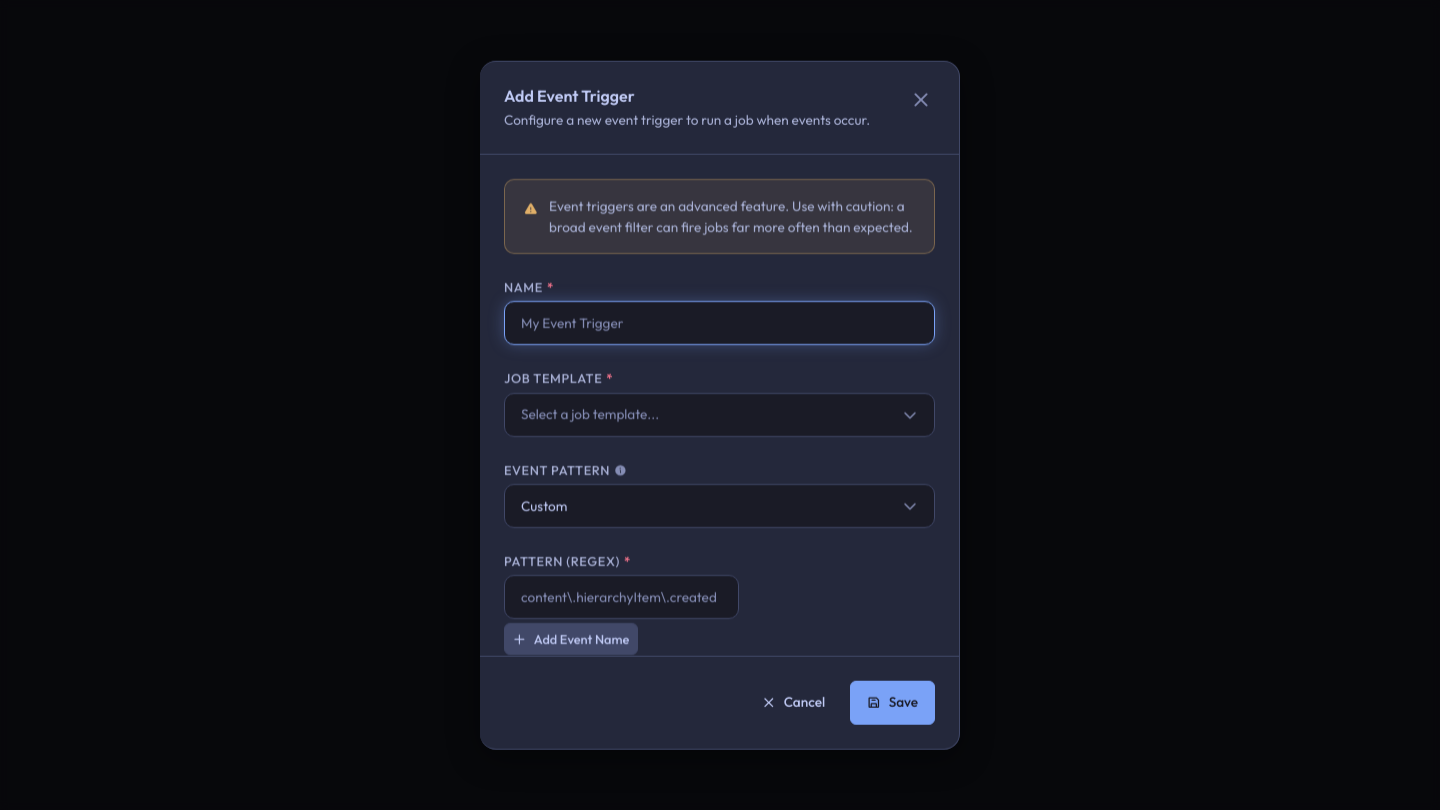
Test: EventTriggerForm - Name input › shows validation error when name is empty on submit
Click the dropdown labelled "Select a job template...". click: [590, 414]
box: top-left (504, 392), bottom-right (935, 436)
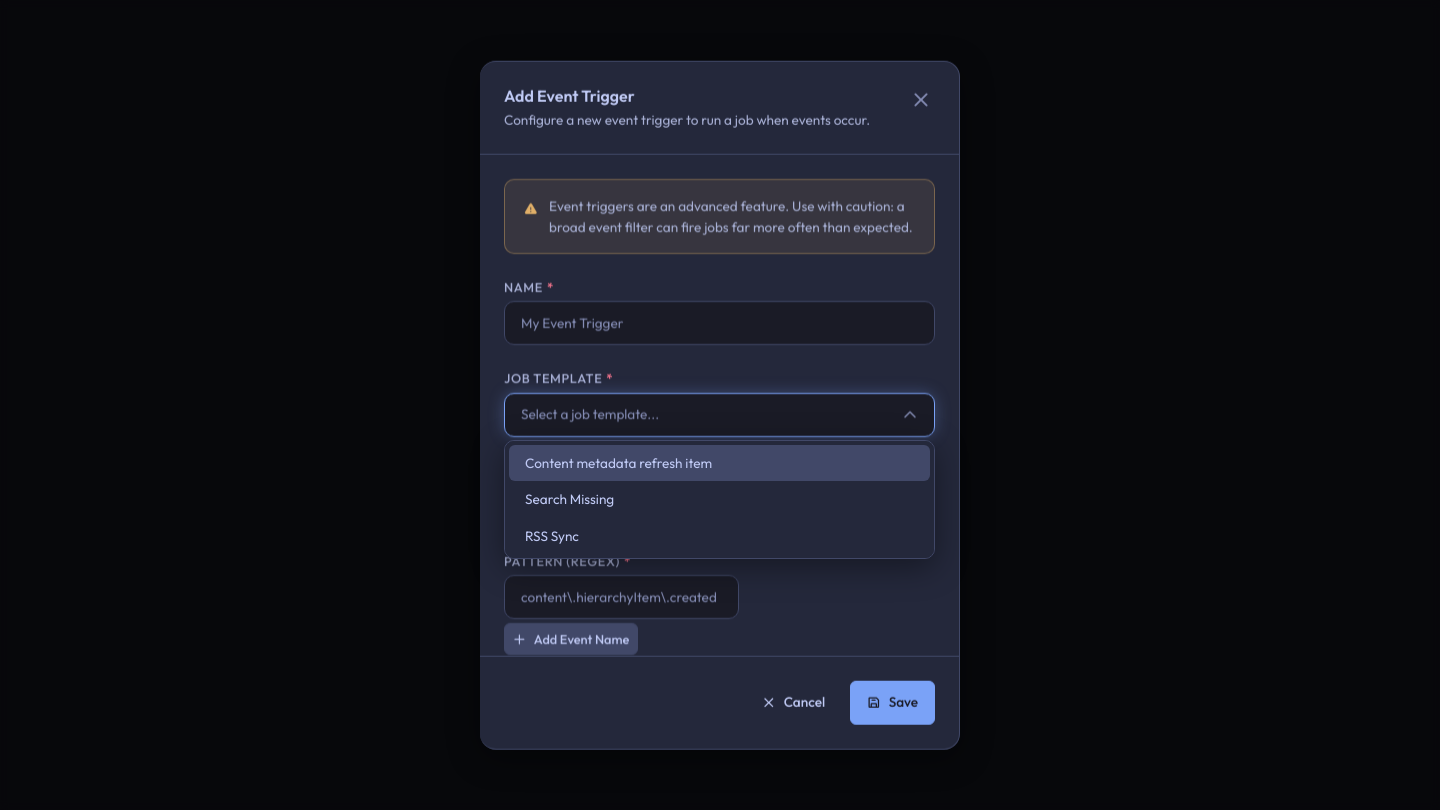
Click the option "Content metadata refresh item". click: [619, 463]
box: top-left (509, 445), bottom-right (930, 481)
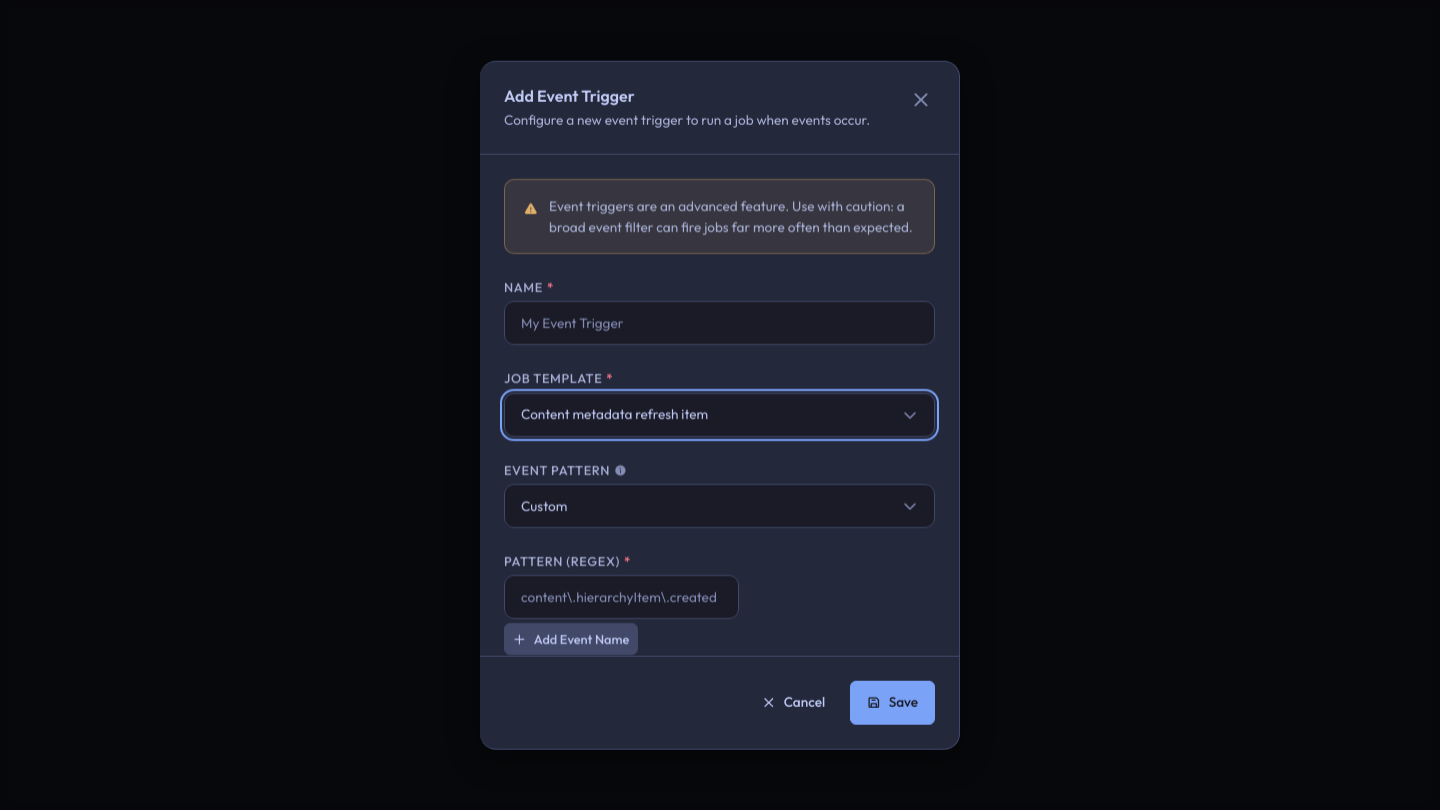
Type "content\\.added" into the field labelled "Pattern (Regex) *". click: [622, 597]
box: top-left (505, 578), bottom-right (738, 615)
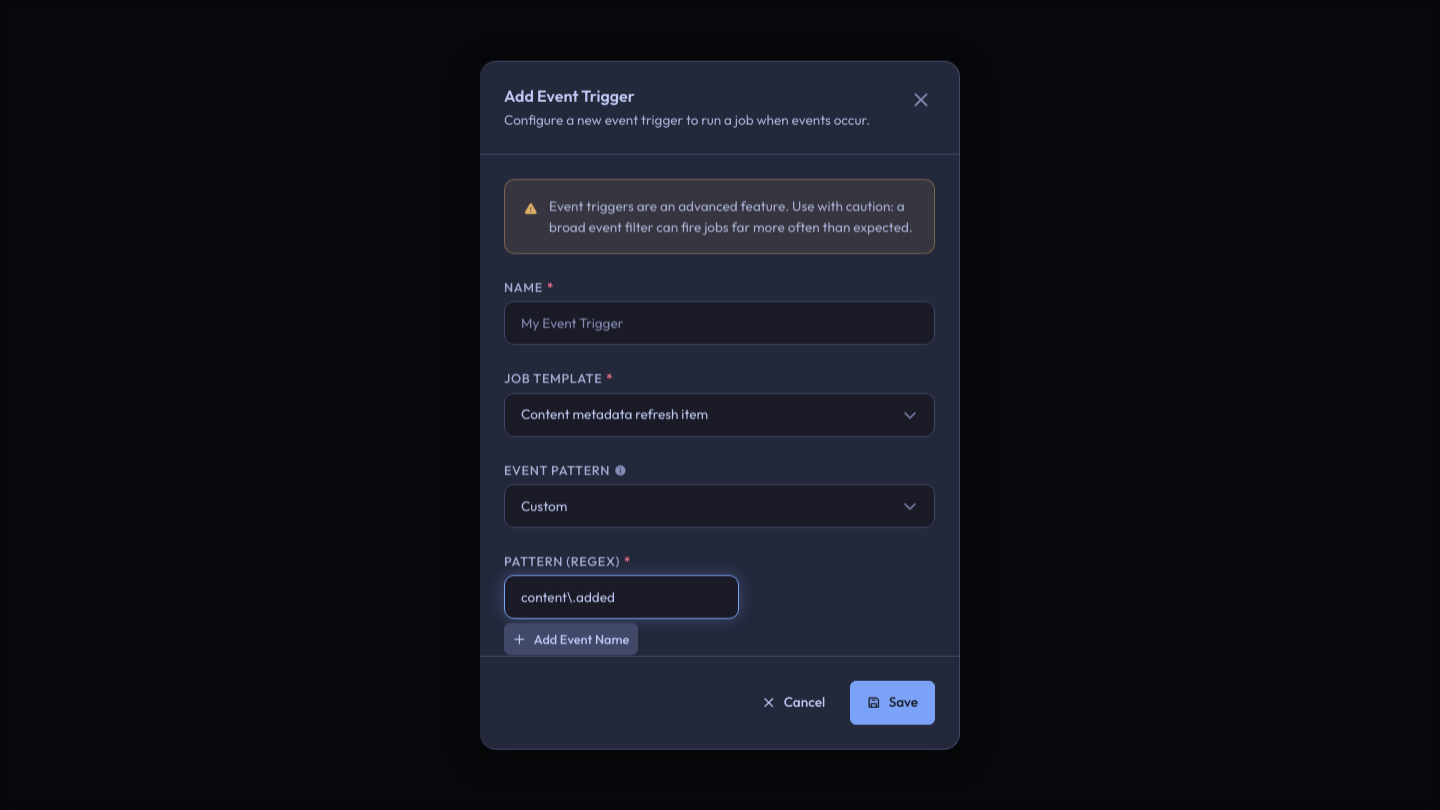
Click the button "Save". click: [893, 702]
box: top-left (850, 680), bottom-right (935, 724)
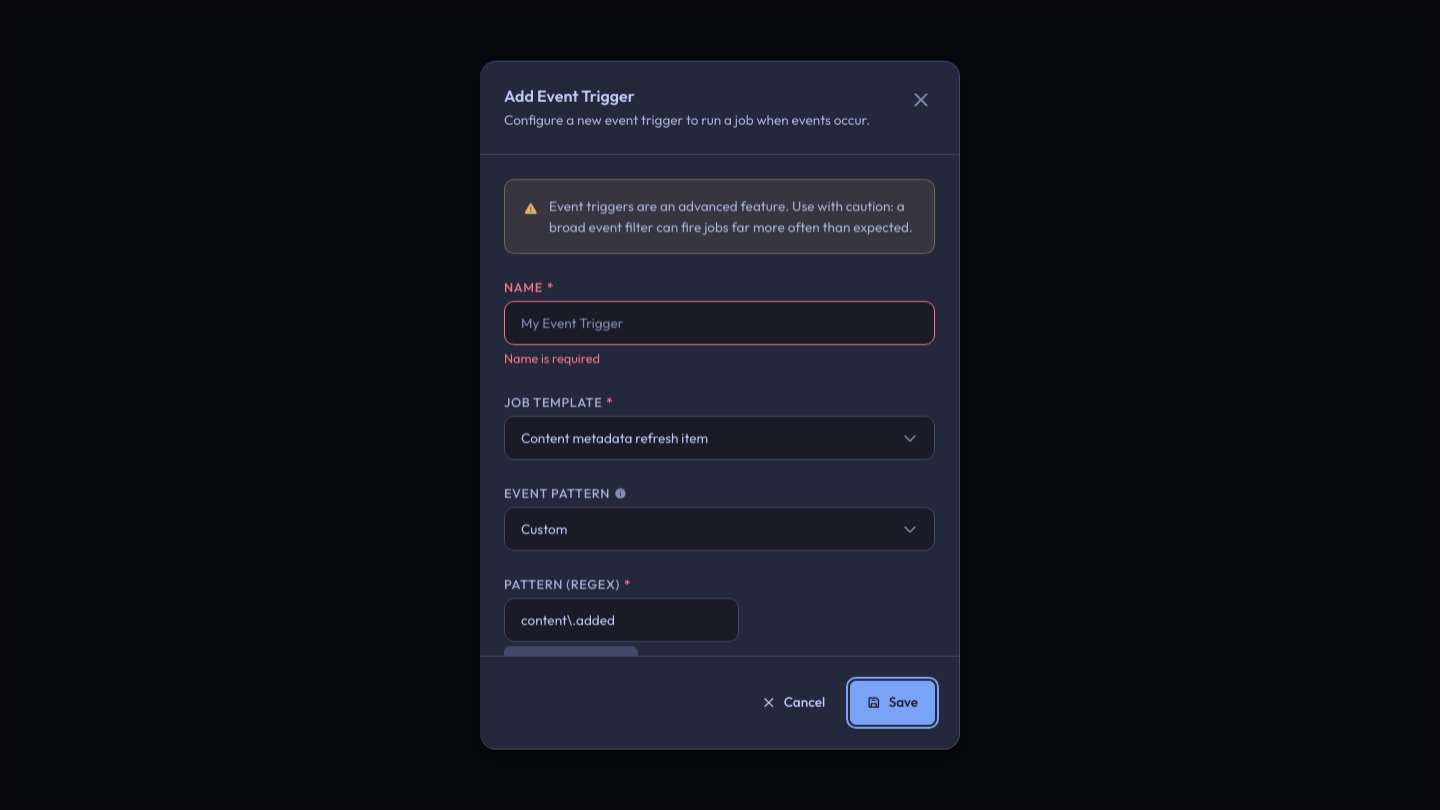
Now the text "Name is required" is shown, box top-left (504, 350), bottom-right (600, 366)
